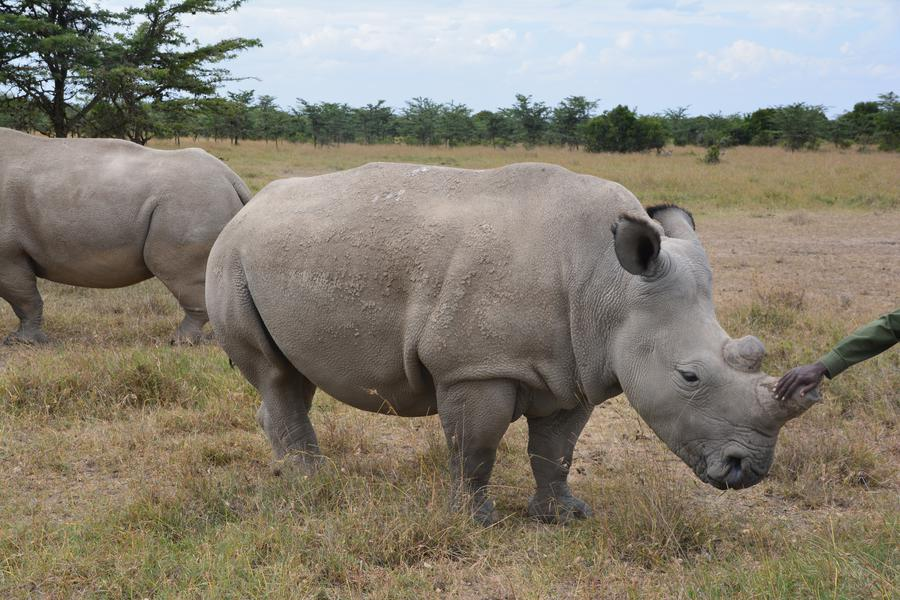rhino: (228, 160, 810, 518), (1, 117, 253, 322)
